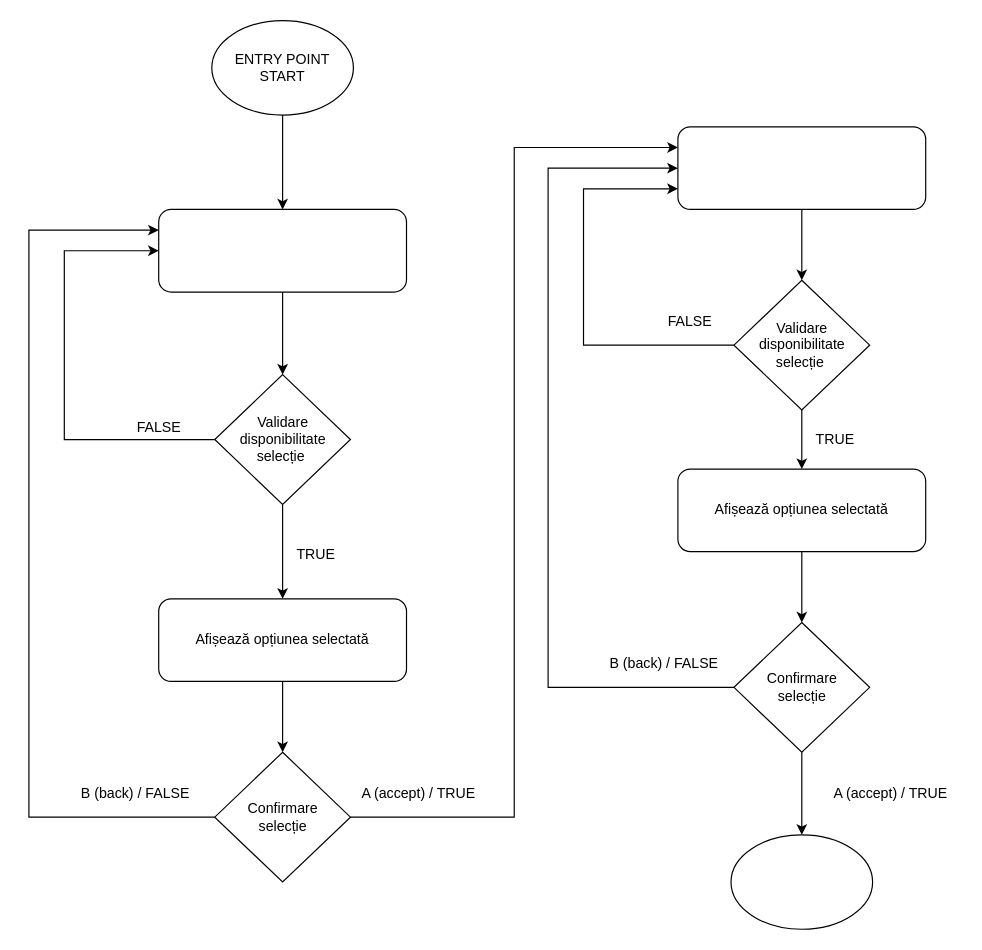
The diagram is 982 pixels wide and 950 high, and some of its shapes have lost their labels. Each missing label, with the centre of its shape:
EXIT POINT: the point at 801,881
Funcție EXPRESS: Opțiuni: 0, 1: the point at 801,167
PROGRAM ÎNTÂRZIERE: Opțiuni: 0, 1, 2, 3: the point at 282,250
